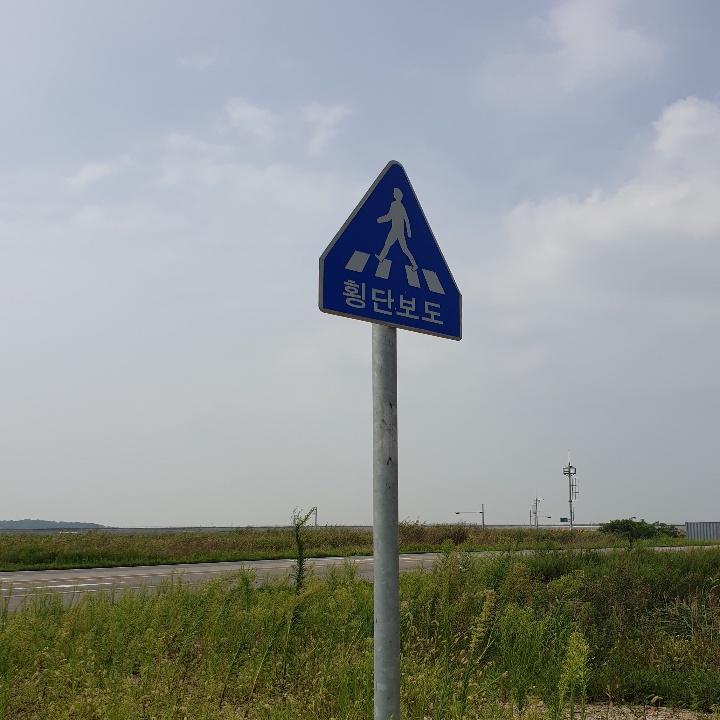cross: (368, 179, 424, 275)
